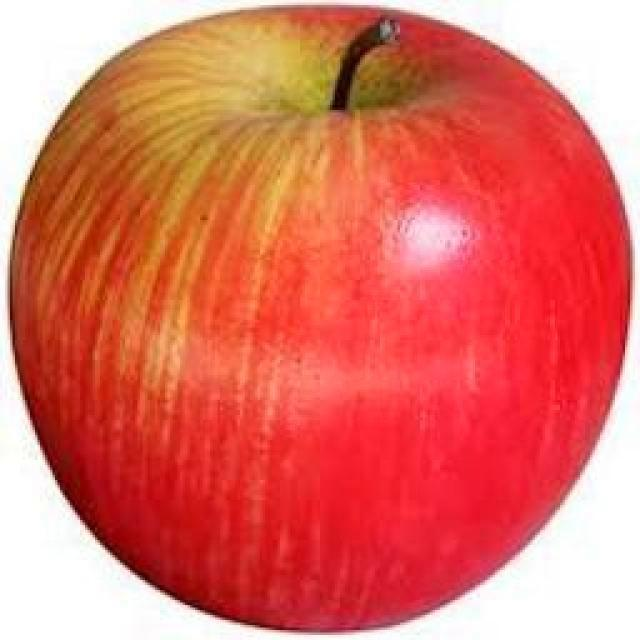Apple: (11, 6, 632, 629)
